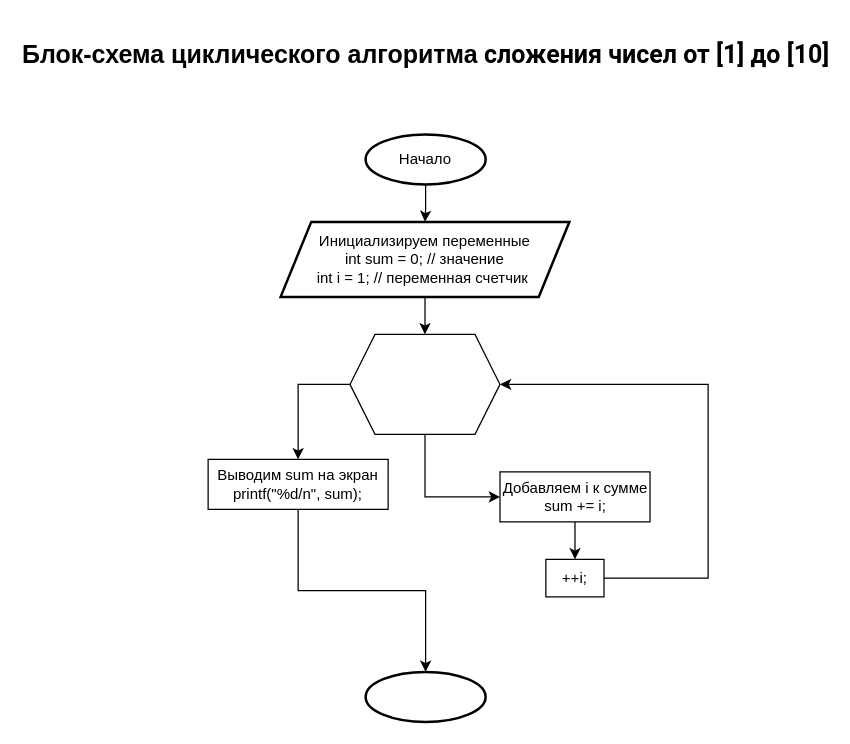
Image size: 850x744. Some labels were removed from this diagram. The centre of each missing label's shape, as x and y in pixels:
"Конец" goes at point (425, 696).
"Цикл сложения от 1 до 10 i<=10" goes at point (424, 383).
